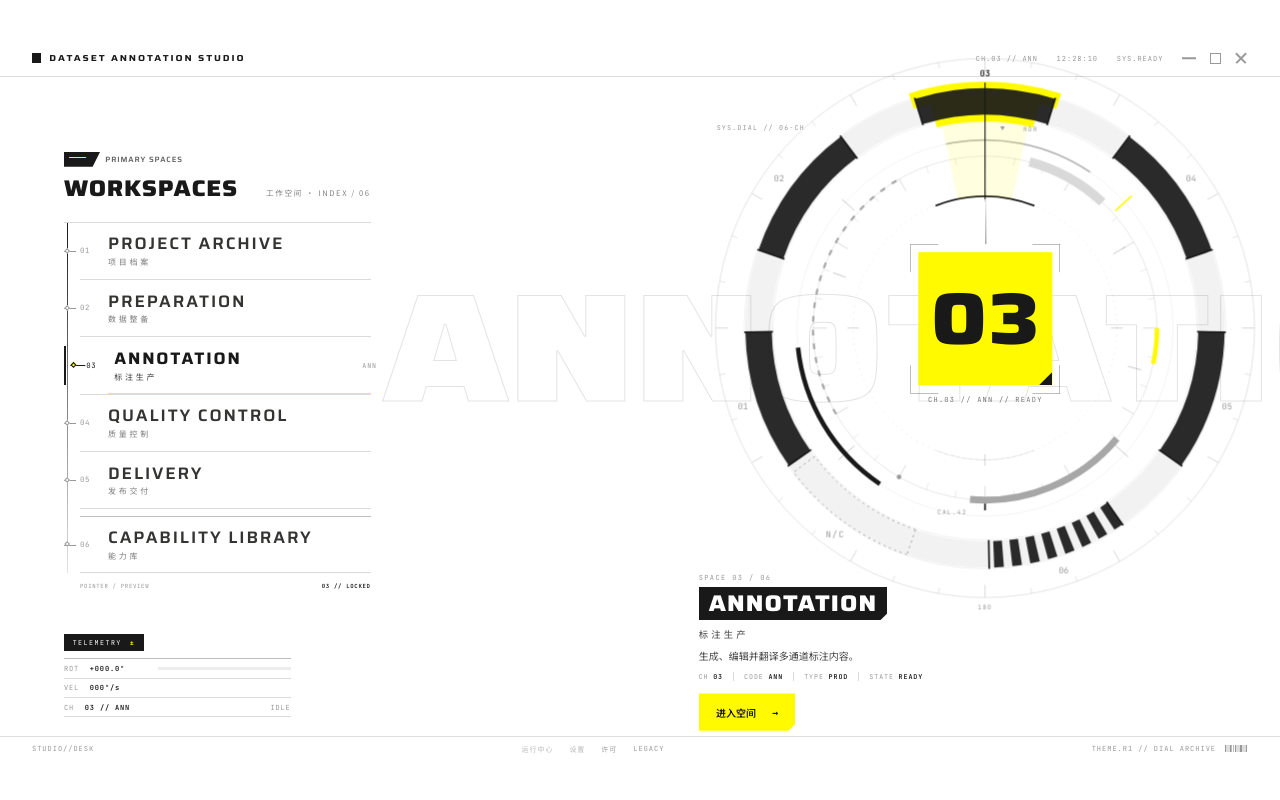
Test case: dial archive home page › commits clicks and directional keyboard navigation immediately
The width and height of the screenshot is (1280, 800).
Click the button with aria-label "预览并锁定空间 05 发布交付" at (156, 473), box top-left (80, 452), bottom-right (371, 509)
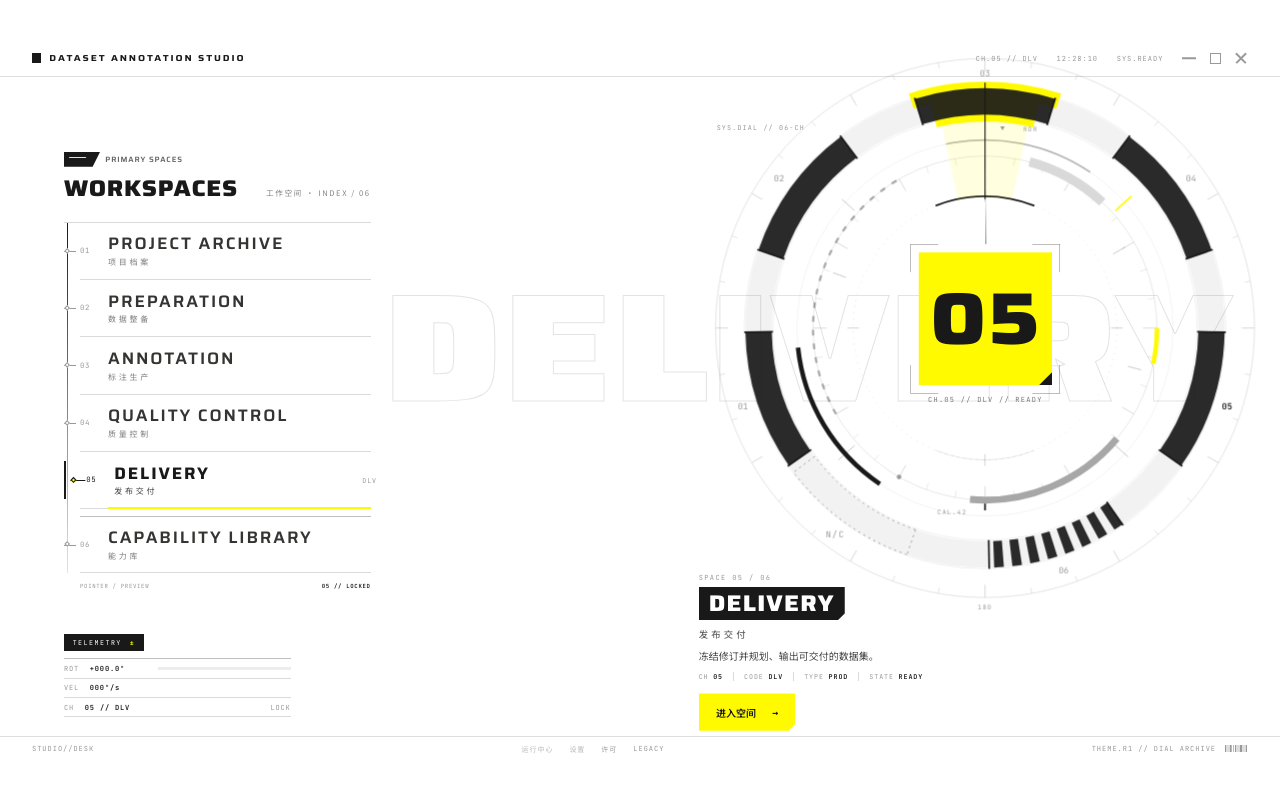
Now the heading "Delivery" is shown, box top-left (699, 587), bottom-right (845, 620)
Press ArrowRight
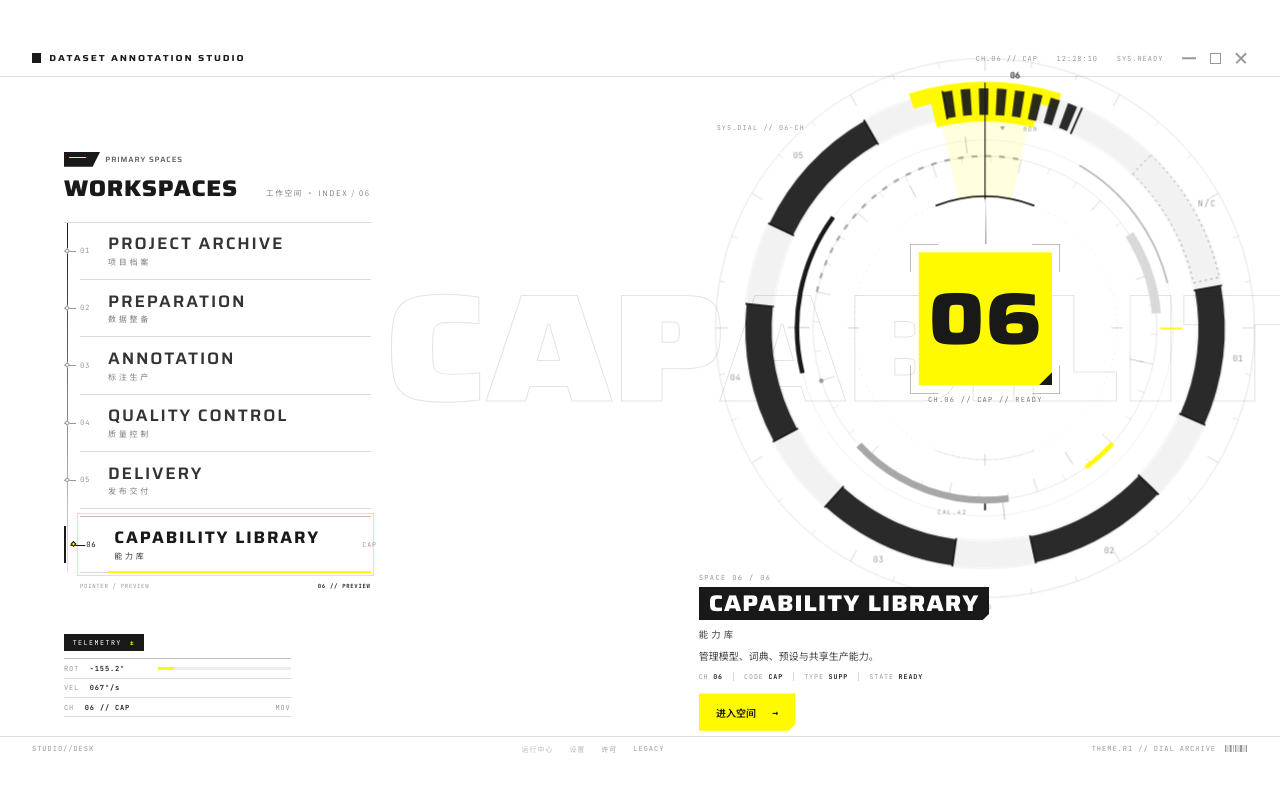
Now the heading "Capability Library" is shown, box top-left (699, 587), bottom-right (990, 620)
